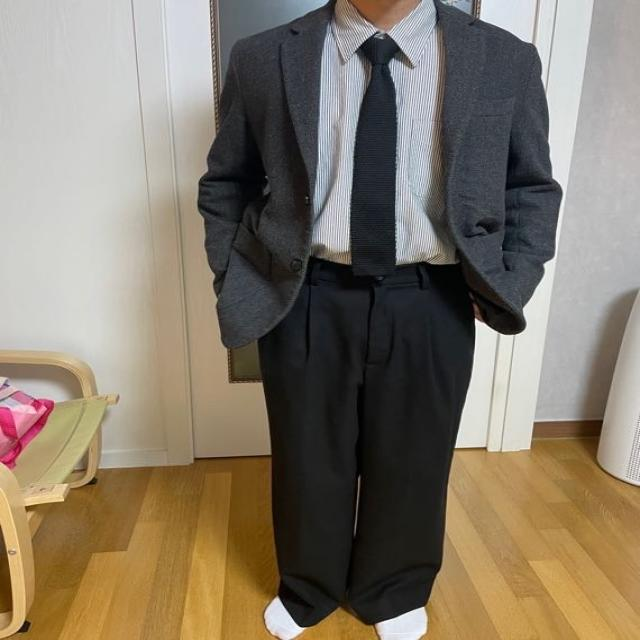blazer: (190, 4, 562, 348)
slacks: (256, 255, 474, 628)
